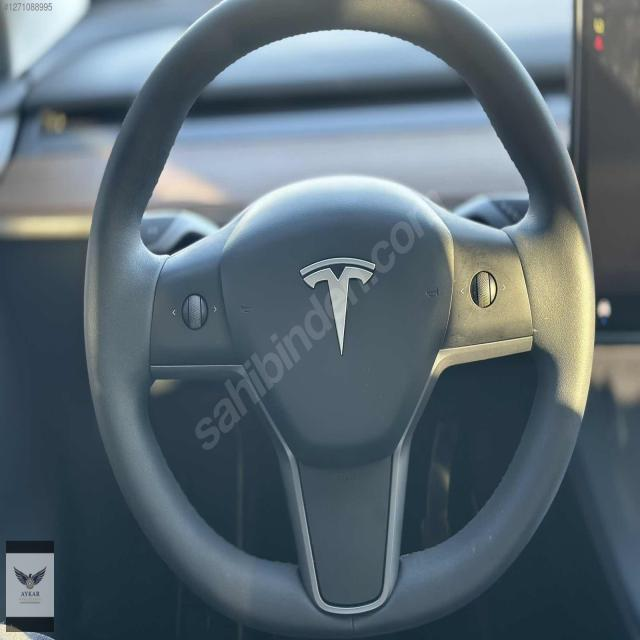tesla: (307, 252, 375, 354)
